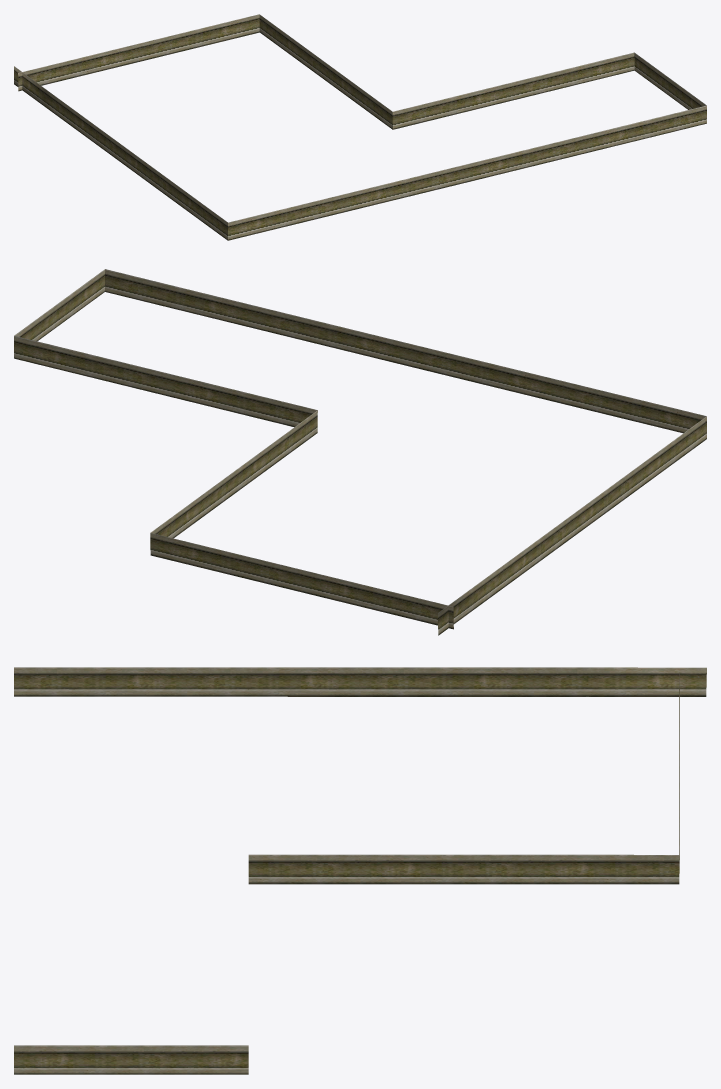
File: CH09_SMAUG_PLAYSURFACE_LAIR99.fbx
3 views of the same model, one above another, from view 1: azimuth 30°, elevation 25°; view 2: azimuth 150°, elevation 25°; view 3: azimuth 270°, elevation 25° (orthographic). The views are drawn at different scales.
Parts seen in each view (by area): view 1: CH09_SMAUG_PLAYSURFACE_LAIR99; view 2: CH09_SMAUG_PLAYSURFACE_LAIR99; view 3: CH09_SMAUG_PLAYSURFACE_LAIR99.
Part boxes in pixels (box(x1,y1,x2,y2)): CH09_SMAUG_PLAYSURFACE_LAIR99: box(14, 14, 706, 240); CH09_SMAUG_PLAYSURFACE_LAIR99: box(14, 269, 706, 635); CH09_SMAUG_PLAYSURFACE_LAIR99: box(14, 667, 706, 1074).
Bounding box in the file's own units: 321160 × 11783 × 246450.
Materials: 1 (1 with a texture image).
